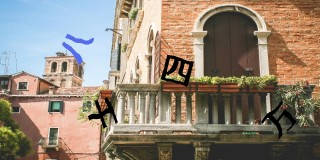万: (262, 101, 296, 139)
八: (61, 33, 94, 64)
千: (87, 97, 118, 128)
四: (161, 53, 194, 87)
